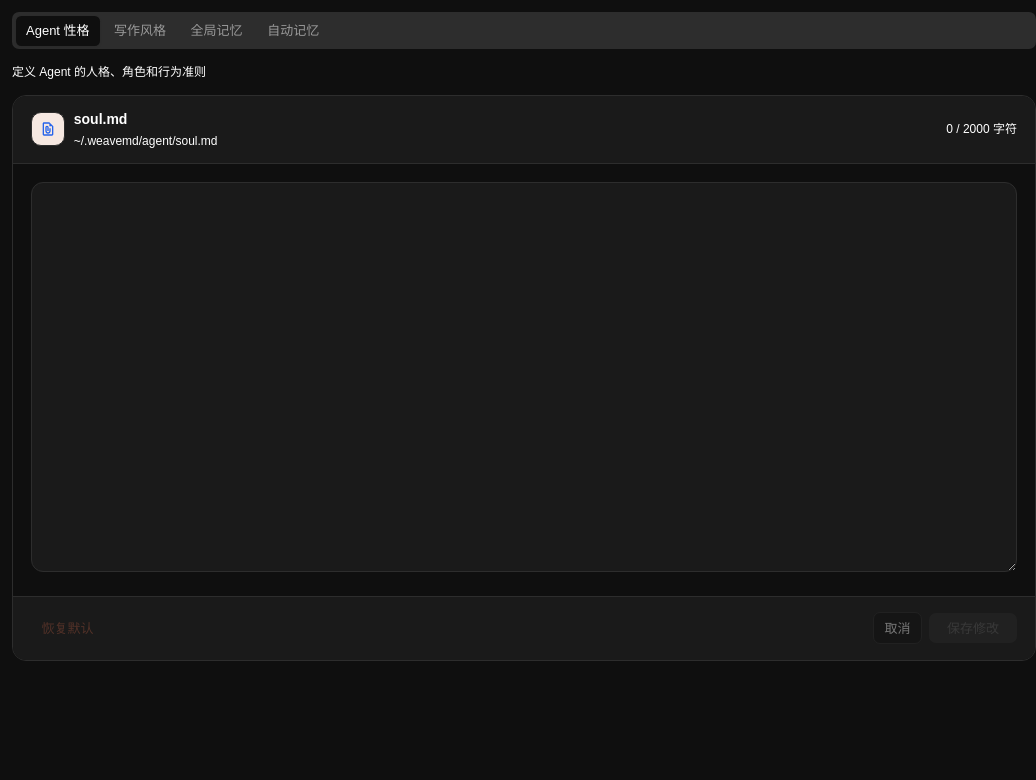
Test case: AgentPersonalityPanel — 自动记忆 tab › 加载失败 → 失败态且不显示列表
The image size is (1036, 780).
What coordinates should you click on to do the following:
click the button "自动记忆"
I would click on:
 (293, 30)
Its box is [257,16,330,46].
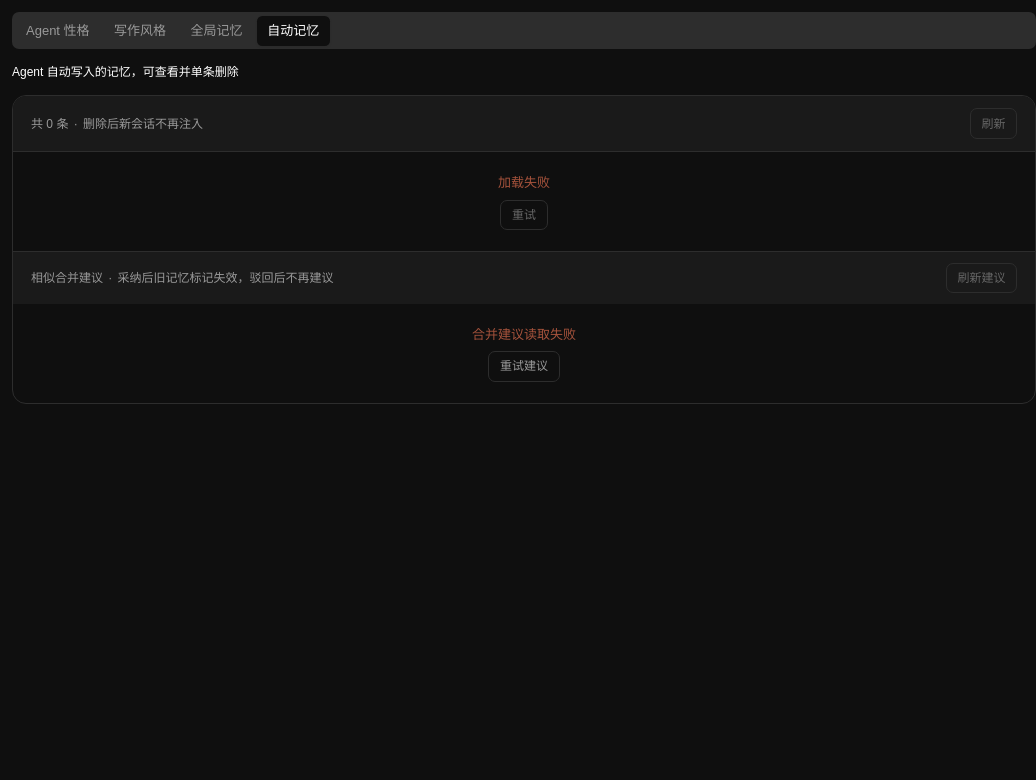
expect the text "加载失败" is shown: met, box [498,175,550,190]
